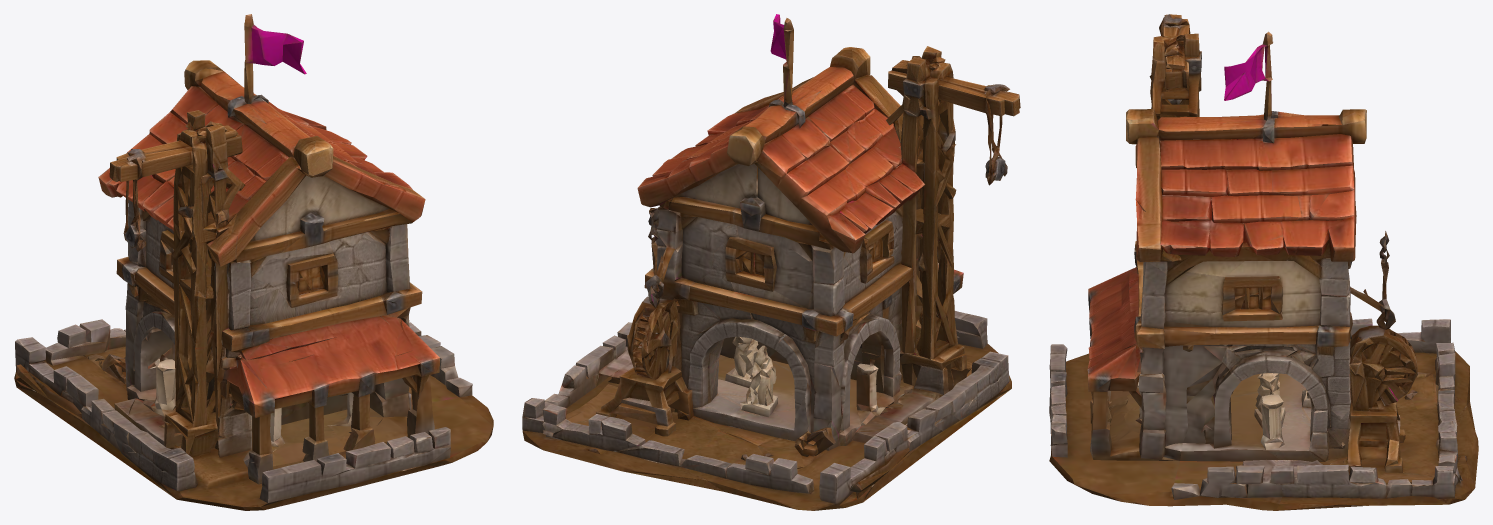
File: stonemason2.glb
The picture shows the model from 3 angles, left to right: view 1: azimuth 30°, elevation 25°; view 2: azimuth 150°, elevation 25°; view 3: azimuth 270°, elevation 25°; orthographic projection.
Visible parts, largest first — view 1: Mesh_0; view 2: Mesh_0; view 3: Mesh_0.
Part boxes in pixels (box(x1,y1,x2,y2)): Mesh_0: box(14, 14, 493, 510); Mesh_0: box(522, 14, 1020, 510); Mesh_0: box(1049, 14, 1478, 510).
Bounding box in the file's own units: 1.88 × 1.89 × 1.89.
1 material, 1 textured.
